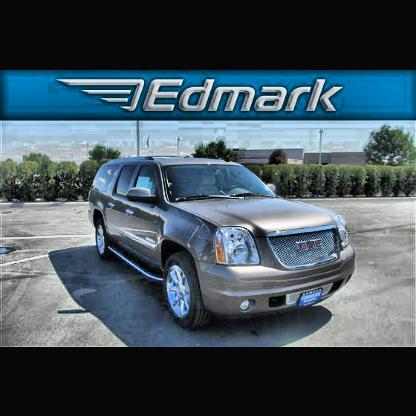GMC Yukon Hybrid SUV 2012: (88, 153, 360, 330)
